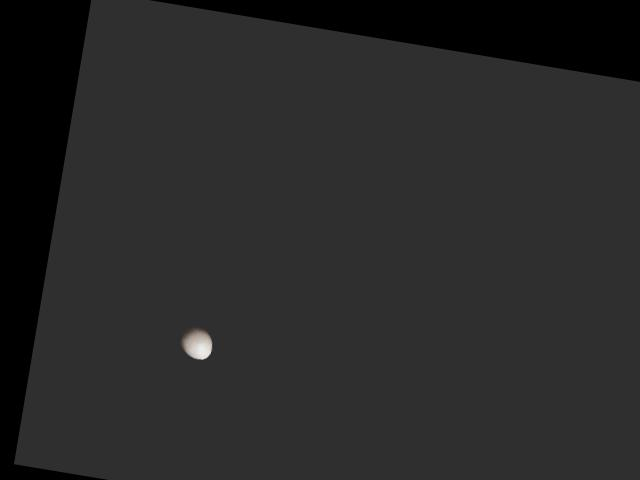egg: (177, 324, 214, 361)
